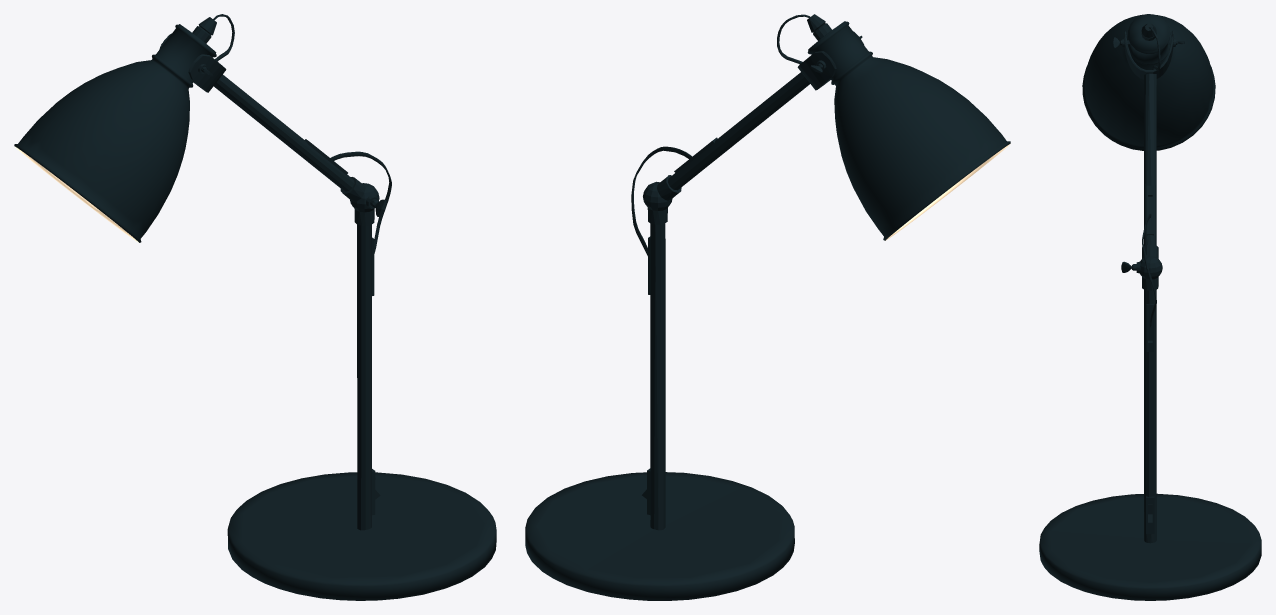
File: lamp.glb
3 views of the same model, side by side, from view 1: azimuth 30°, elevation 25°; view 2: azimuth 150°, elevation 25°; view 3: azimuth 270°, elevation 25° (orthographic). The views are drawn at different scales.
Visible parts, largest first — view 1: Cylinder.002_Plastic_0, Cylinder.002_PlafondOuter_0; view 2: Cylinder.002_Plastic_0, Cylinder.002_PlafondOuter_0; view 3: Cylinder.002_Plastic_0, Cylinder.002_PlafondOuter_0.
Part boxes in pixels (bbox=[...]): Cylinder.002_Plastic_0: bbox=[159, 14, 496, 600]; Cylinder.002_PlafondOuter_0: bbox=[14, 24, 216, 242]; Cylinder.002_Plastic_0: bbox=[525, 14, 863, 600]; Cylinder.002_PlafondOuter_0: bbox=[807, 21, 1010, 240]; Cylinder.002_Plastic_0: bbox=[1039, 23, 1261, 600]; Cylinder.002_PlafondOuter_0: bbox=[1082, 14, 1215, 150].
Size of the model in its own units: 51.95 by 62.13 by 26.7.
